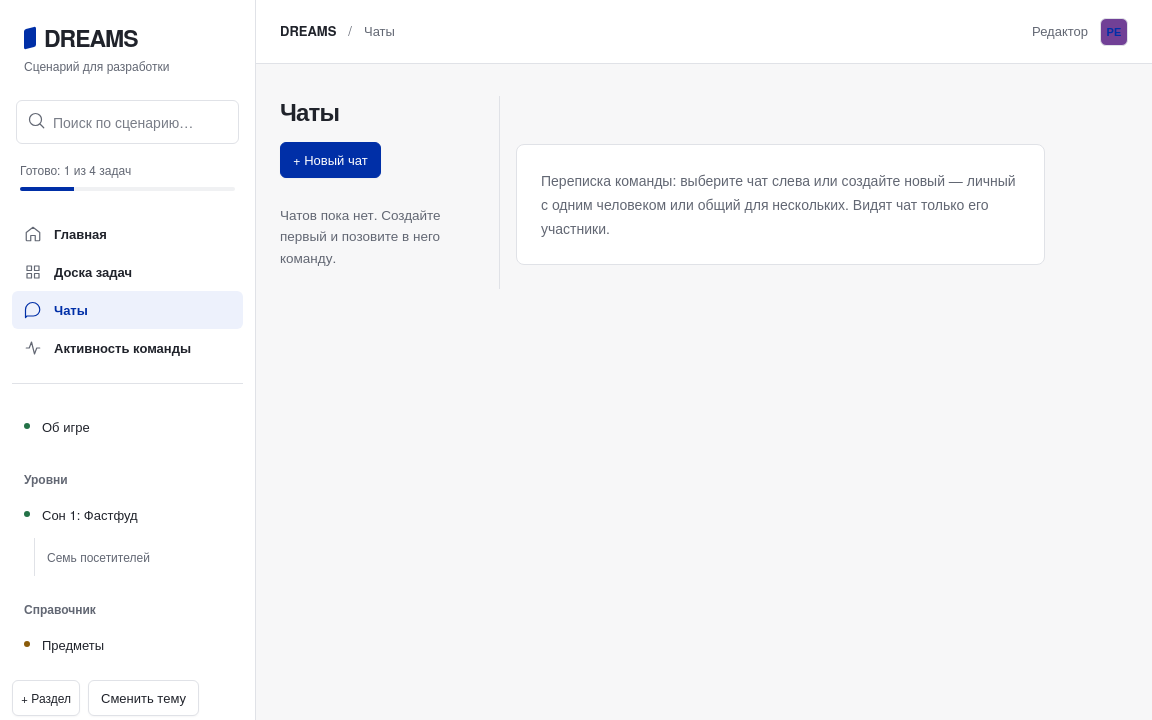
Scenario: chats › creates a chat with chosen members
Click the button "+ Новый чат" at coordinates (330, 160), box [280, 142, 381, 178]
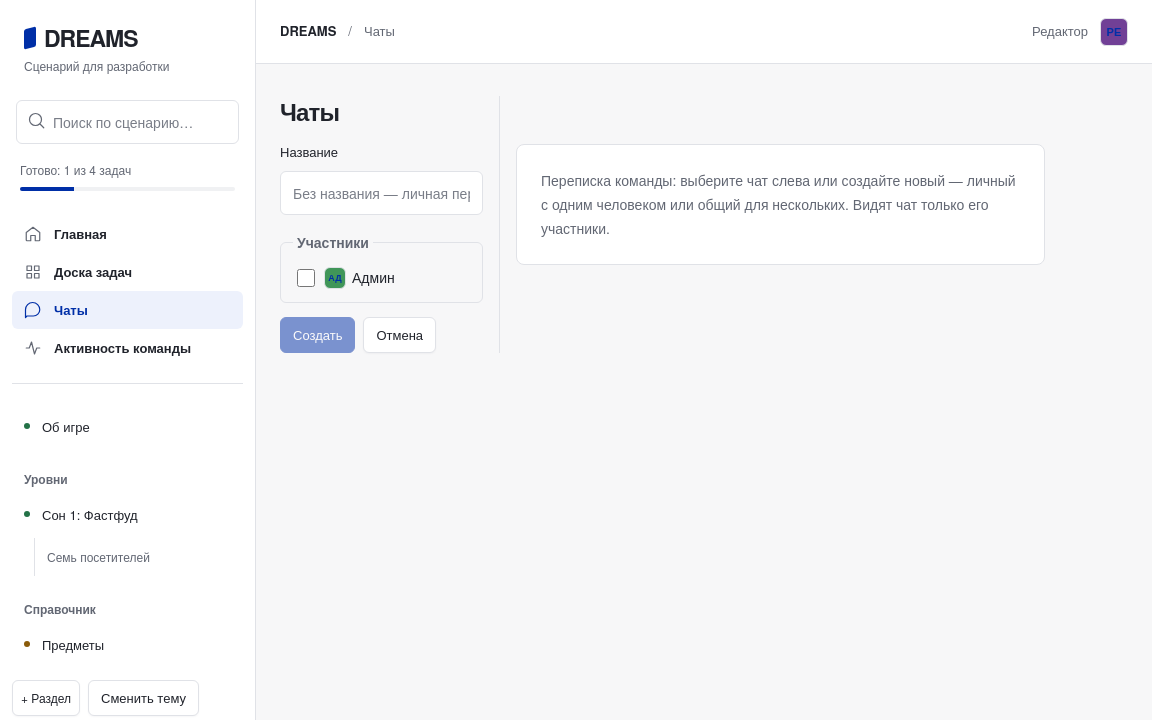
Expected: the button "Создать" is disabled, [280, 317, 355, 353]
Type "Арт" into the field labelled "Название" at coordinates (382, 193), box [280, 171, 483, 215]
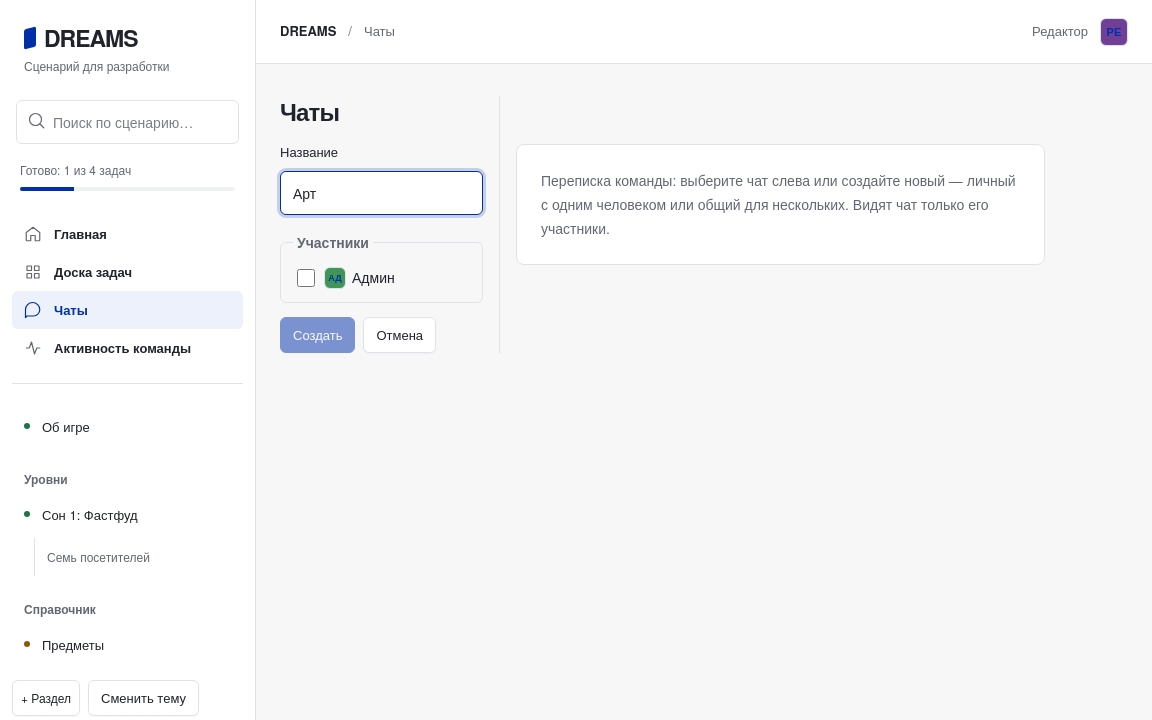
Click the checkbox labelled "Админ" at coordinates (306, 278), box [297, 269, 315, 287]
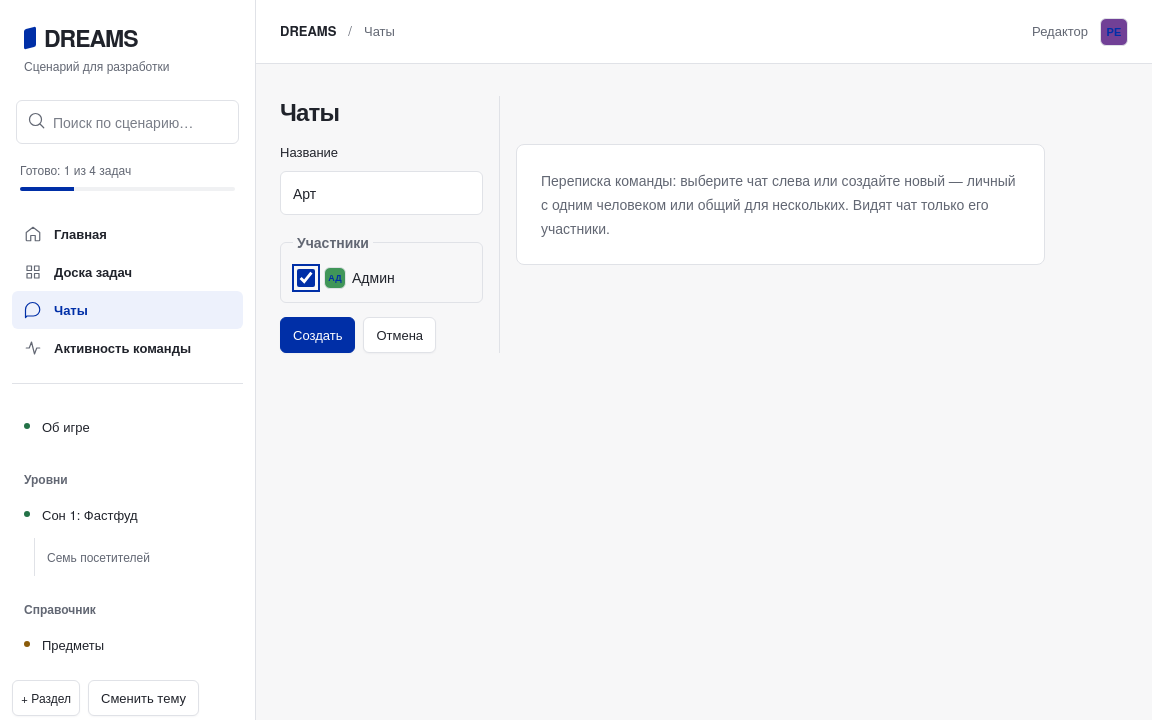
Click the button "Создать" at coordinates (318, 335), box [280, 317, 355, 353]
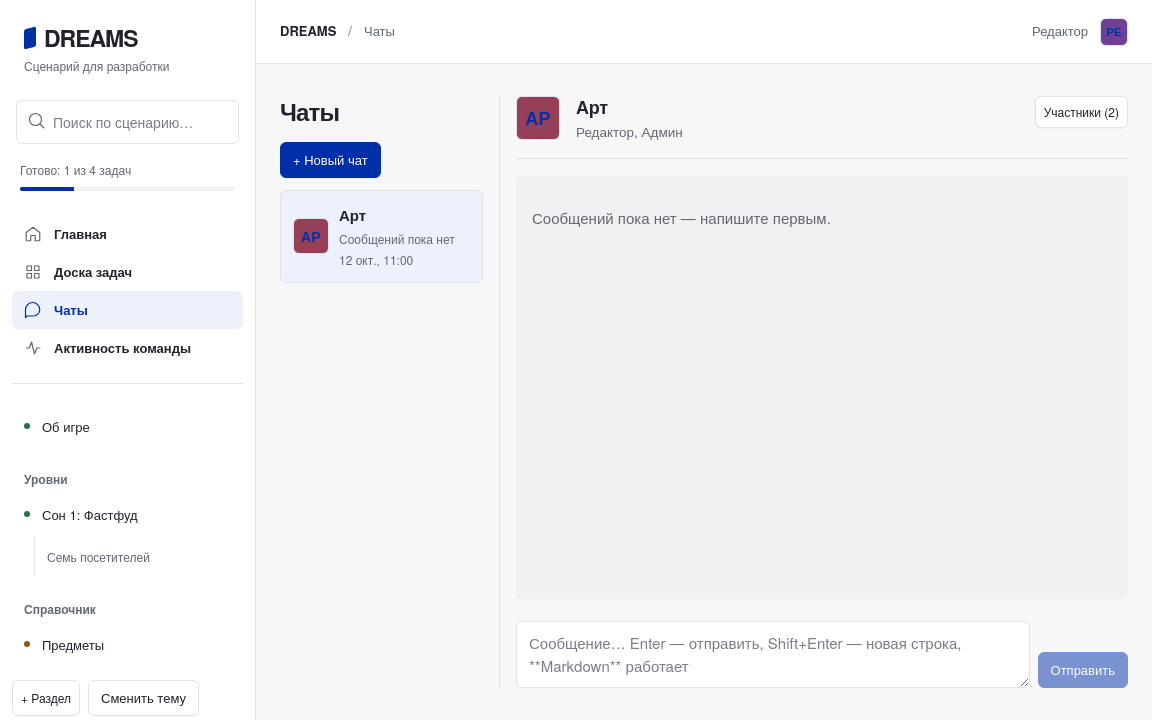
Expected: the element "Арт" is shown, [516, 96, 1128, 688]
